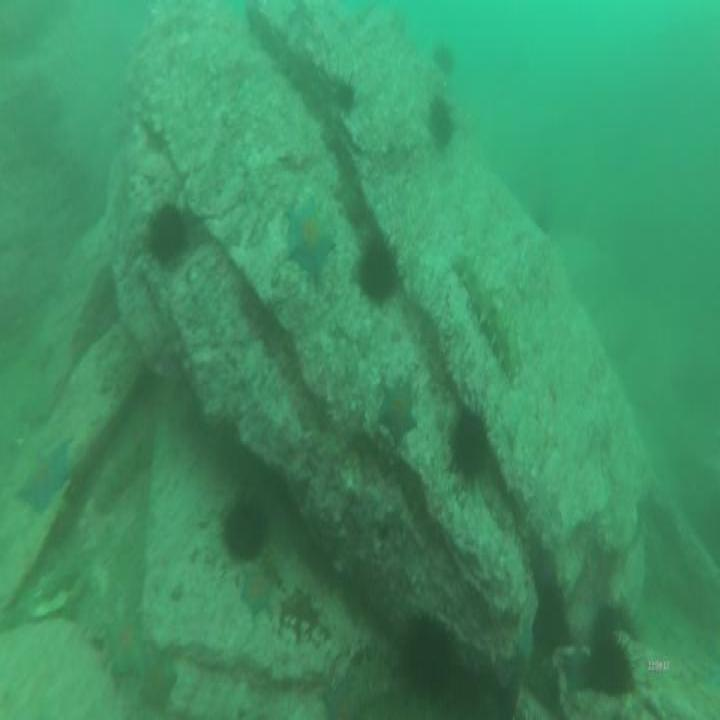echinus: (406, 615, 449, 695), (356, 233, 396, 300), (450, 410, 485, 482), (591, 631, 628, 695), (150, 202, 189, 260), (224, 503, 262, 555), (430, 101, 451, 139), (335, 80, 356, 110)
holothurian: (452, 252, 519, 378)
starfish: (18, 439, 67, 512), (288, 199, 333, 276), (101, 615, 143, 674), (380, 378, 417, 444), (142, 649, 176, 707), (320, 677, 357, 720), (564, 643, 592, 697), (244, 567, 275, 613)
